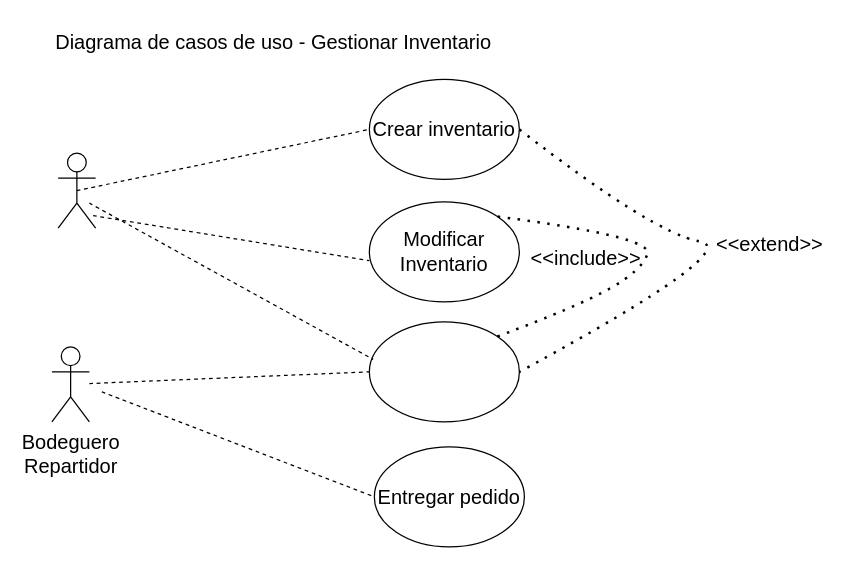
Some shapes in this 854 by 569 pixel diagram are drawn without their labels. Each missing label, with the centre of its shape:
"Listar inventario" goes at (x=443, y=371).
"Secretaria Vendedor" goes at (x=76, y=190).
